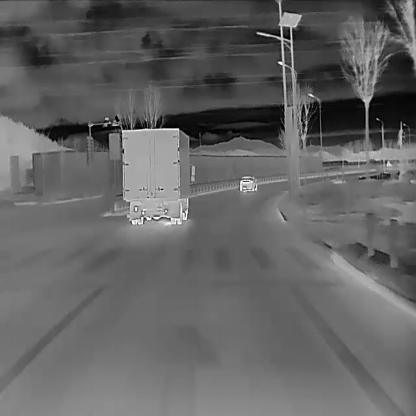car: (238, 174, 258, 192)
truck: (119, 126, 194, 223)
